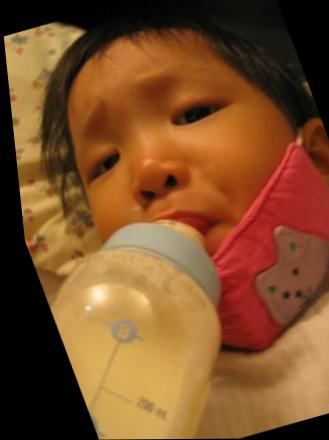WRONG: (38, 33, 329, 358)
